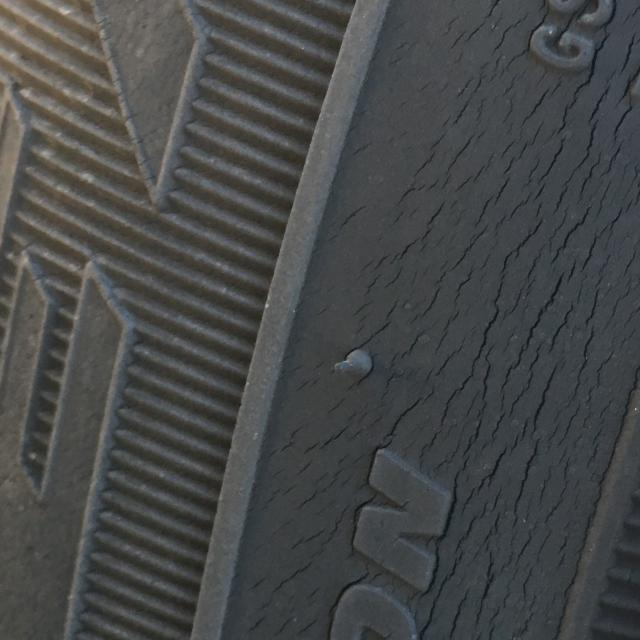Cracks: (204, 0, 640, 640)
